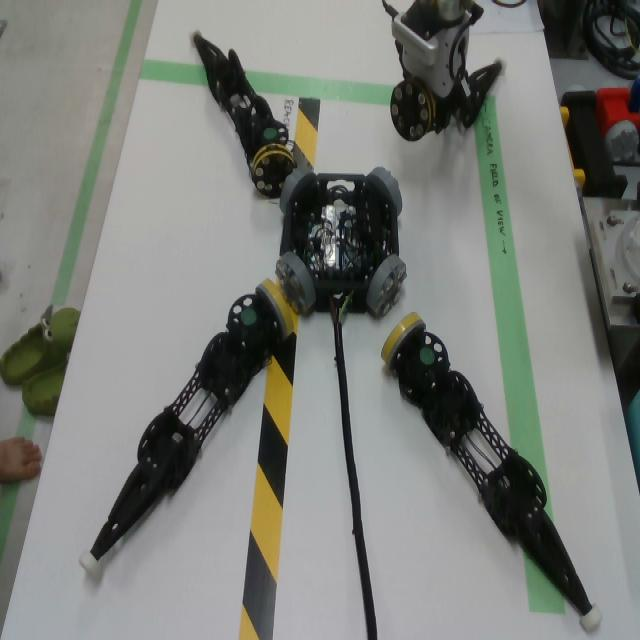body: (279, 173, 398, 315)
body_connector: (275, 252, 317, 317), (365, 255, 407, 317), (367, 167, 403, 217), (279, 168, 315, 215)
gripper: (395, 23, 471, 135)
leg: (380, 312, 603, 633), (79, 277, 294, 585), (188, 29, 295, 197), (454, 55, 508, 129), (390, 77, 436, 143)
leg_connector: (390, 77, 436, 143), (381, 312, 426, 369), (251, 143, 296, 200), (255, 279, 293, 343)
leg_marker: (242, 308, 257, 325), (420, 348, 434, 364), (264, 128, 277, 139)
